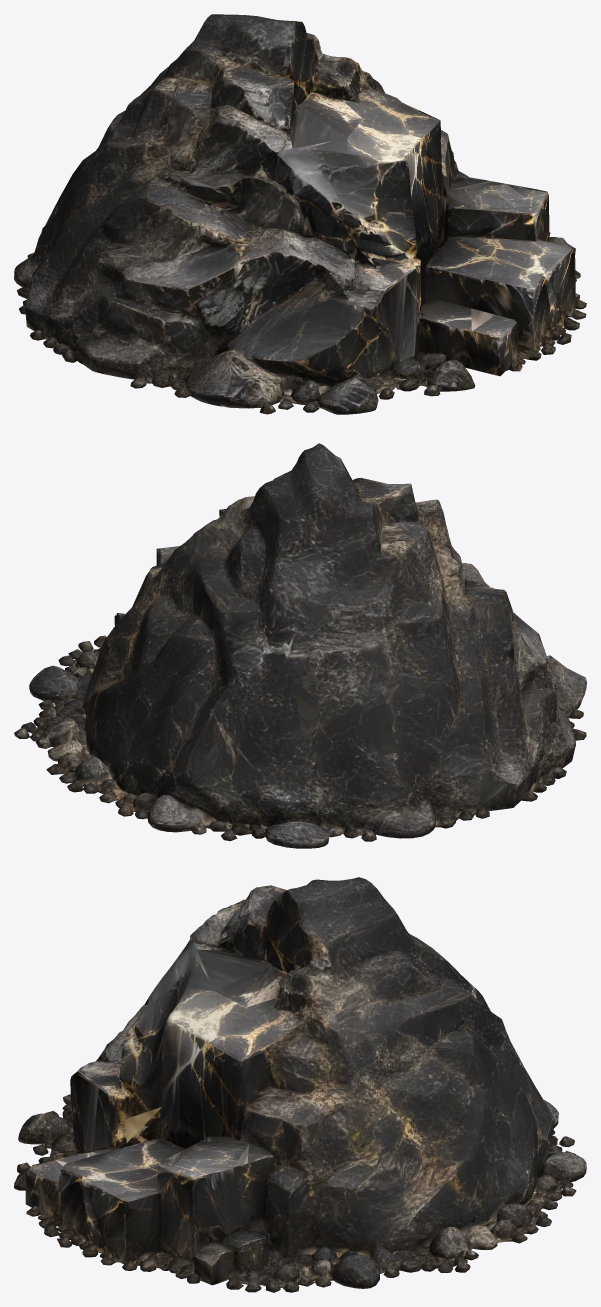
The picture shows the model from 3 angles, top to bottom: view 1: azimuth 30°, elevation 25°; view 2: azimuth 150°, elevation 25°; view 3: azimuth 270°, elevation 25°; orthographic projection.
Parts seen in each view (by area): view 1: node_0; view 2: node_0; view 3: node_0.
Part boxes in pixels (x1,y1,x2,y2): node_0: (14, 14, 586, 414); node_0: (14, 443, 586, 848); node_0: (14, 877, 586, 1292).
Bounding box in the file's own units: 1.03 × 0.5498 × 1.03.
Materials: 1 (1 with a texture image).
